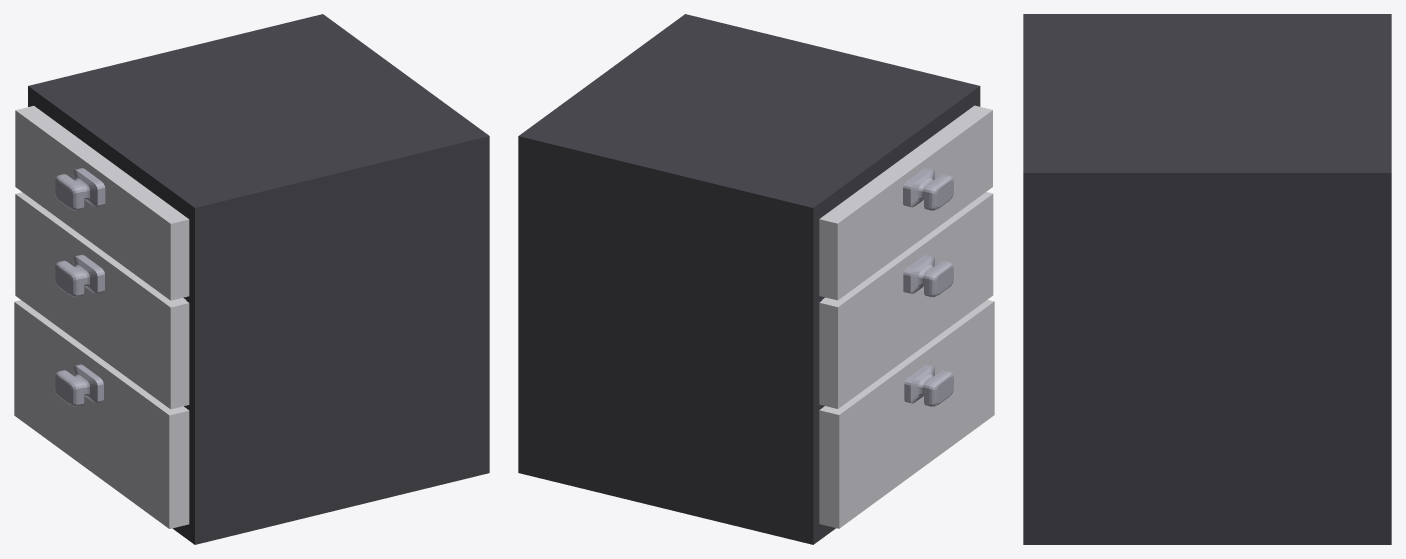
Rendered from drawer2 textured.fbx.
The picture shows the model from 3 angles, left to right: view 1: azimuth 30°, elevation 25°; view 2: azimuth 150°, elevation 25°; view 3: azimuth 270°, elevation 25°; orthographic projection. The views are drawn at different scales.
Visible parts, largest first — view 1: drawer2 right, drawer2 top, Drawer 1, Drawer 2, Drawer 3, drawer2 bottom, handle 1, handle 2, handle 3; view 2: drawer2 left, drawer2 top, Drawer 1, Drawer 2, Drawer 3, drawer2 bottom, handle 1, handle 2, handle 3; view 3: drawer2 back, drawer2 top, drawer2 bottom.
Part boxes in pixels (x1,y1,x2,y2): drawer2 right: (186,152,489,528); drawer2 top: (28,14,489,223); Drawer 1: (14,300,189,528); Drawer 2: (15,192,189,409); Drawer 3: (15,106,189,300); drawer2 bottom: (172,457,489,544); handle 1: (54,168,105,210); handle 2: (54,254,104,297); handle 3: (54,364,103,406); drawer2 left: (518,152,821,528); drawer2 top: (518,14,980,223); Drawer 1: (819,299,994,528); Drawer 2: (819,192,993,408); Drawer 3: (819,105,992,300); drawer2 bottom: (518,457,835,544); handle 1: (903,168,953,210); handle 2: (903,254,953,297); handle 3: (904,364,953,406); drawer2 back: (1023,190,1391,526); drawer2 top: (1023,14,1391,190); drawer2 bottom: (1023,527,1391,544).
Size of the model in its own units: 1000 by 939 by 843.
